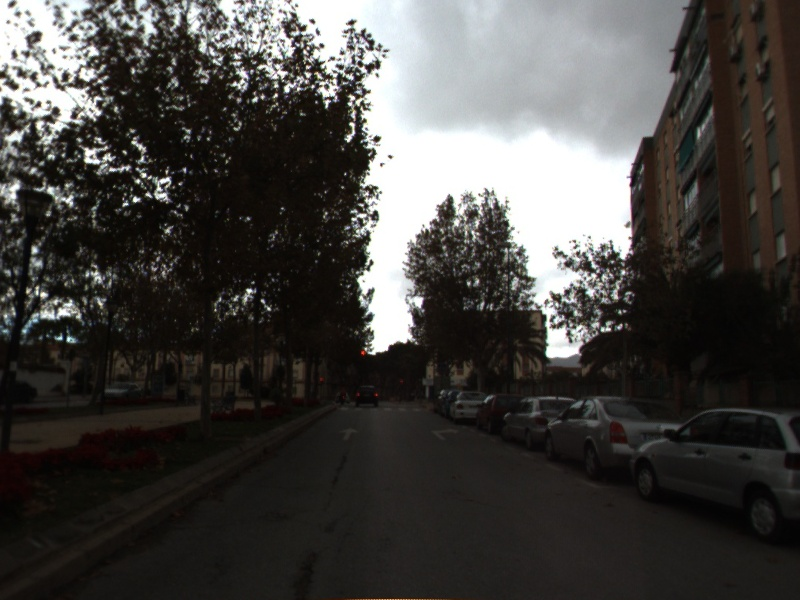RIGHT: (429, 426, 462, 443)
STRAIGHT: (337, 425, 361, 443)
